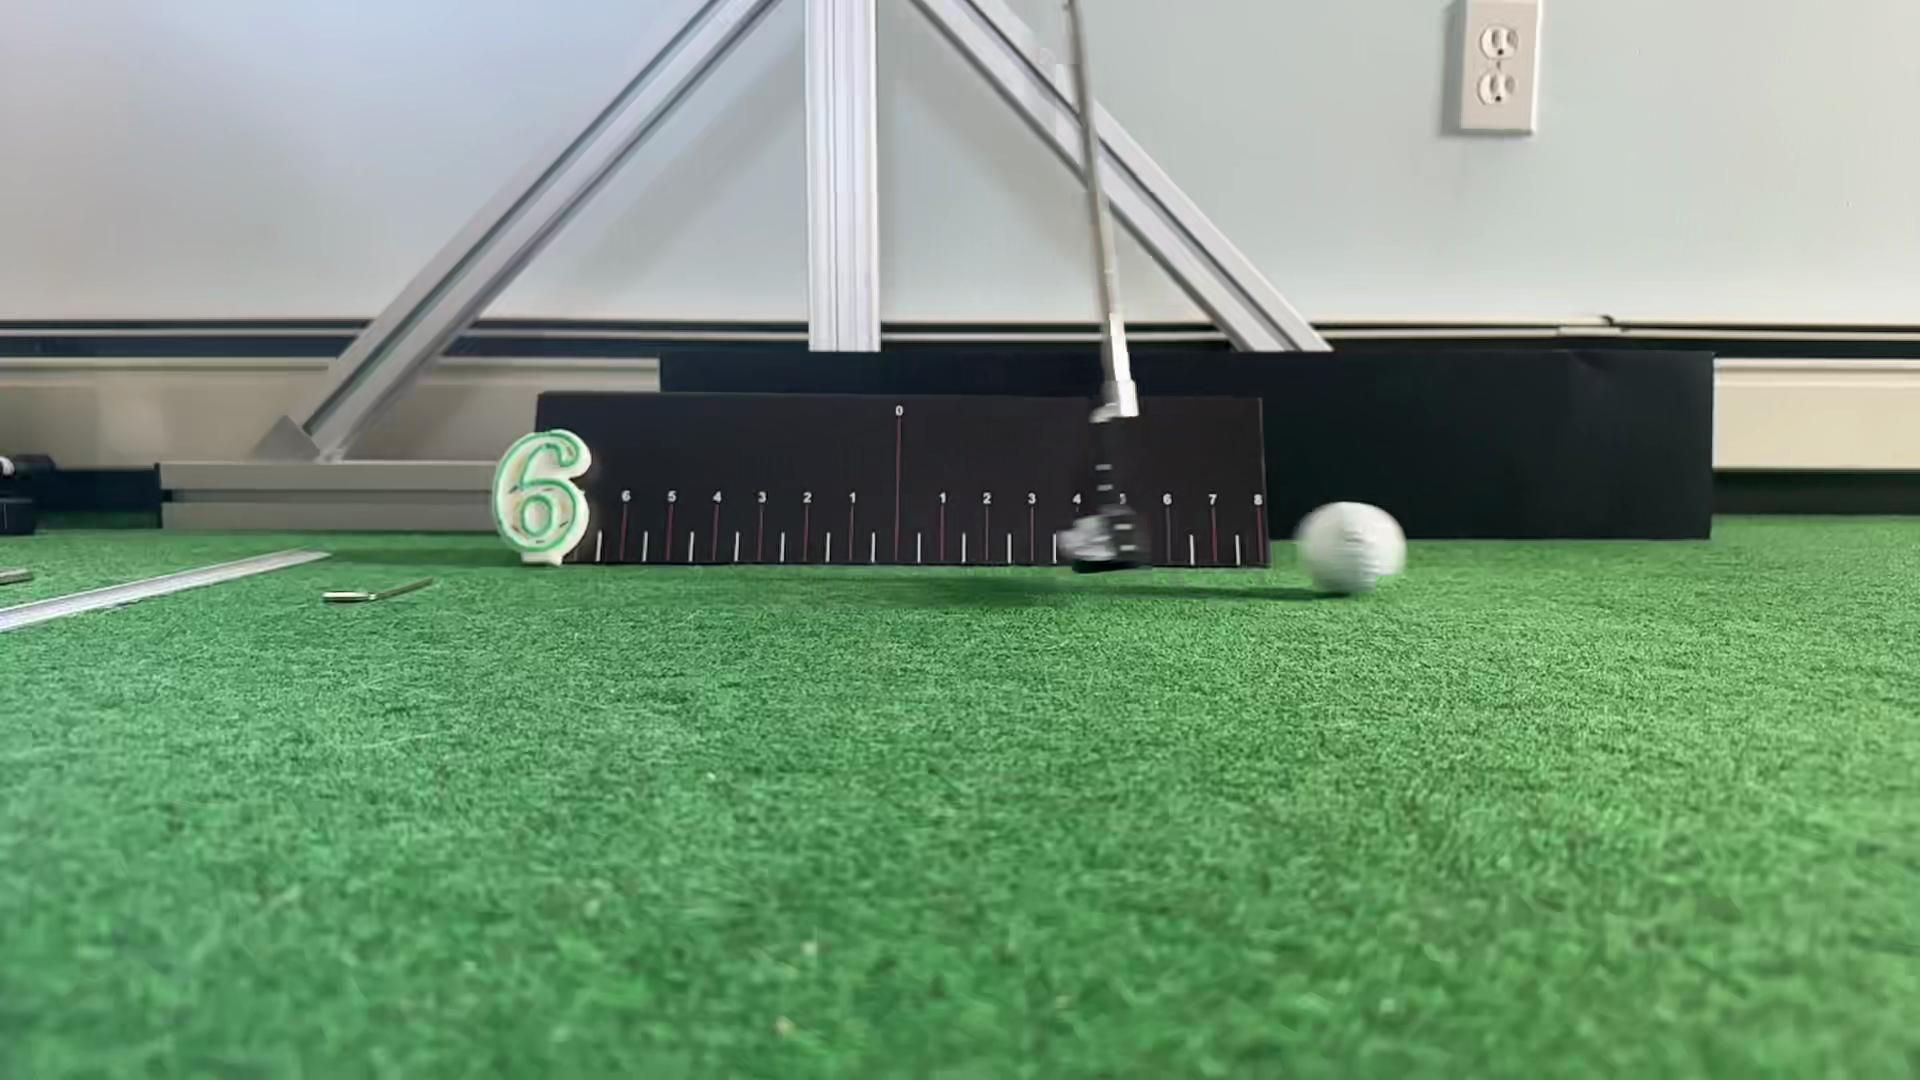golfball: (1300, 501, 1406, 593)
